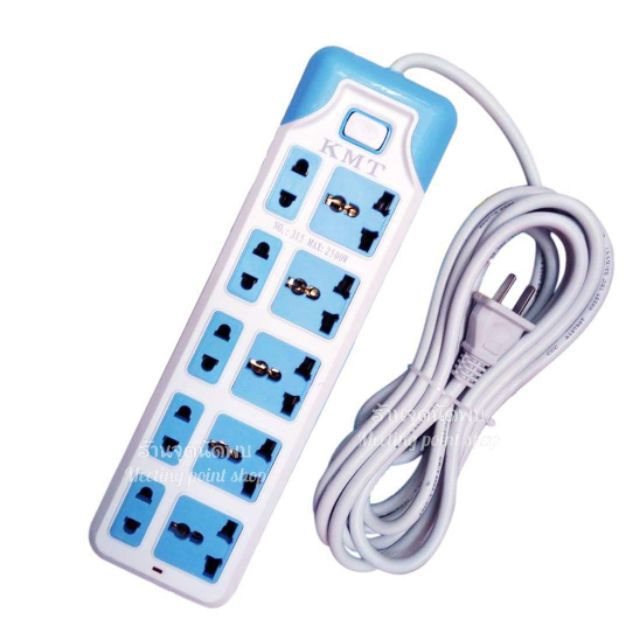Three_eye_plug: (82, 35, 624, 619)
